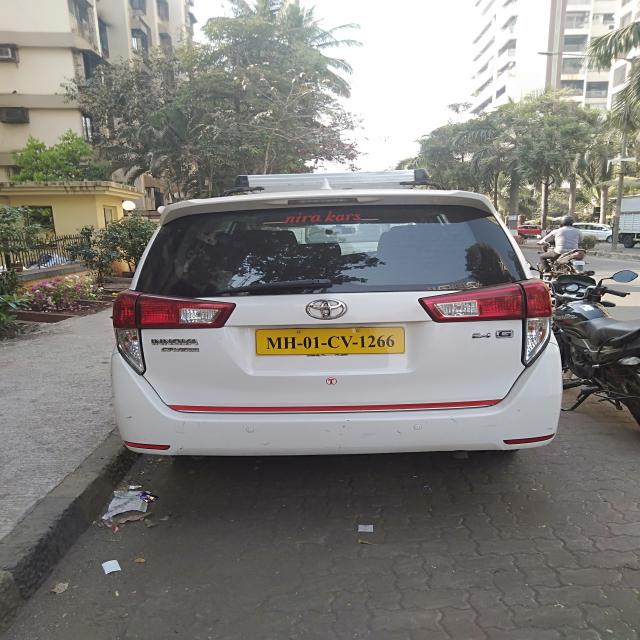Number-Plate: (258, 328, 402, 354)
